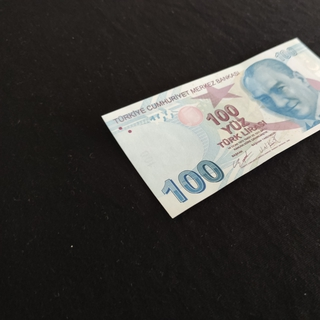100TLFront: (100, 36, 320, 219)
